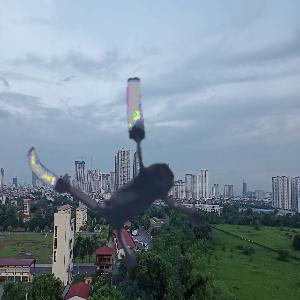drone: (24, 71, 238, 285)
